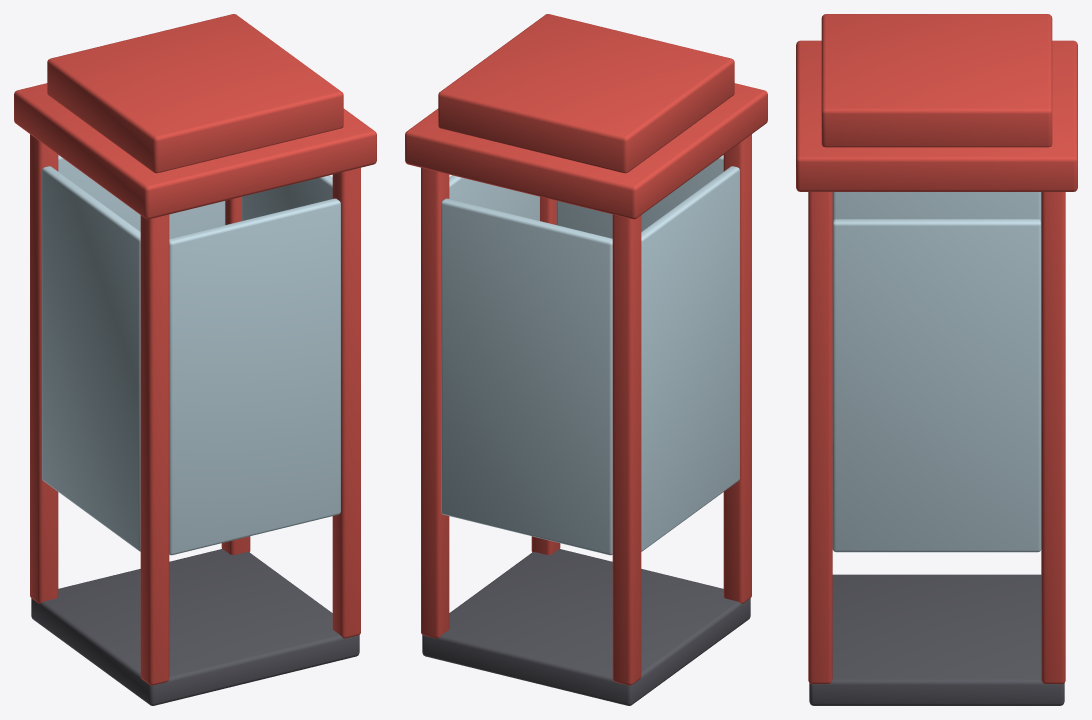
File: th5_telefonzelle.glb
3 renders of one model, left to right at view 1: azimuth 30°, elevation 25°; view 2: azimuth 150°, elevation 25°; view 3: azimuth 270°, elevation 25°, orthographic. The views are drawn at different scales.
Parts seen in each view (by area): view 1: Cube.005, Cube.007, Cube.010, Cube, Cube.009, Cube.001, Cube.002, Cube.003, Cube.006, Cube.008, Cube.004; view 2: Cube.006, Cube.007, Cube.010, Cube, Cube.009, Cube.003, Cube.004, Cube.001, Cube.005, Cube.008, Cube.002; view 3: Cube.008, Cube.010, Cube, Cube.009, Cube.002, Cube.004, Cube.007.
Boxes of the visible parts, x1=… form: Cube.005: x1=169, y1=198, x2=340, y2=555; Cube.007: x1=42, y1=166, x2=140, y2=551; Cube.010: x1=47, y1=14, x2=343, y2=173; Cube: x1=31, y1=549, x2=359, y2=705; Cube.009: x1=14, y1=83, x2=376, y2=219; Cube.001: x1=140, y1=214, x2=169, y2=685; Cube.002: x1=332, y1=167, x2=360, y2=638; Cube.003: x1=30, y1=134, x2=58, y2=603; Cube.006: x1=58, y1=155, x2=225, y2=238; Cube.008: x1=242, y1=175, x2=332, y2=220; Cube.004: x1=221, y1=197, x2=250, y2=554; Cube.006: x1=441, y1=198, x2=612, y2=555; Cube.007: x1=641, y1=166, x2=739, y2=551; Cube.010: x1=438, y1=14, x2=734, y2=173; Cube: x1=422, y1=549, x2=750, y2=705; Cube.009: x1=405, y1=83, x2=767, y2=219; Cube.003: x1=612, y1=214, x2=641, y2=685; Cube.004: x1=421, y1=167, x2=449, y2=638; Cube.001: x1=723, y1=134, x2=751, y2=603; Cube.005: x1=556, y1=155, x2=723, y2=238; Cube.008: x1=449, y1=175, x2=539, y2=220; Cube.002: x1=531, y1=197, x2=560, y2=554; Cube.008: x1=832, y1=219, x2=1041, y2=552; Cube.010: x1=821, y1=14, x2=1052, y2=147; Cube: x1=809, y1=574, x2=1064, y2=705; Cube.009: x1=796, y1=40, x2=1077, y2=191; Cube.002: x1=808, y1=192, x2=832, y2=684; Cube.004: x1=1041, y1=192, x2=1065, y2=684; Cube.007: x1=832, y1=192, x2=1041, y2=220.
Bounding box in the file's own units: 1.16 × 2.69 × 1.16.
